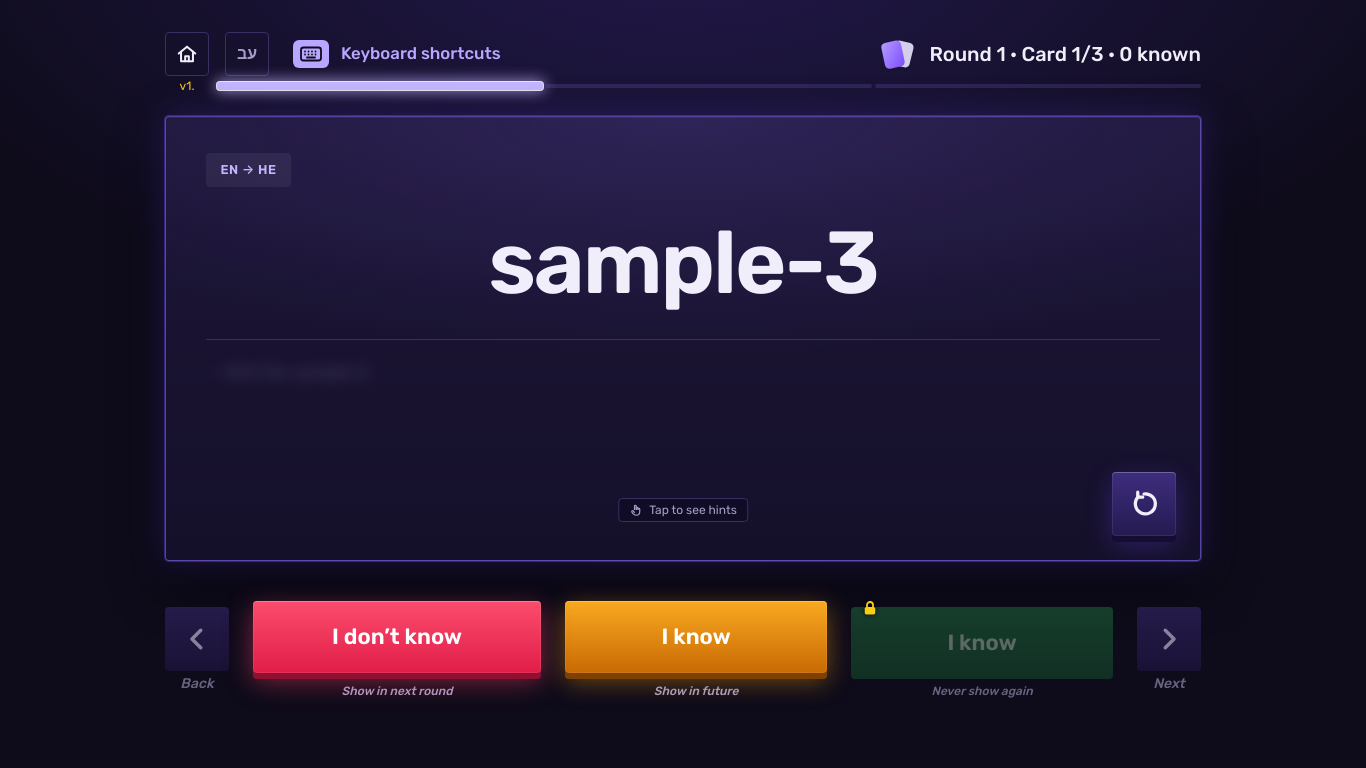
Test: PracticePage › Don’t know flips to the back, keeps the layout, turns red off and Next pumps
Click the button "I don’t know Show in next round": (397,652) [253,601,541,703]
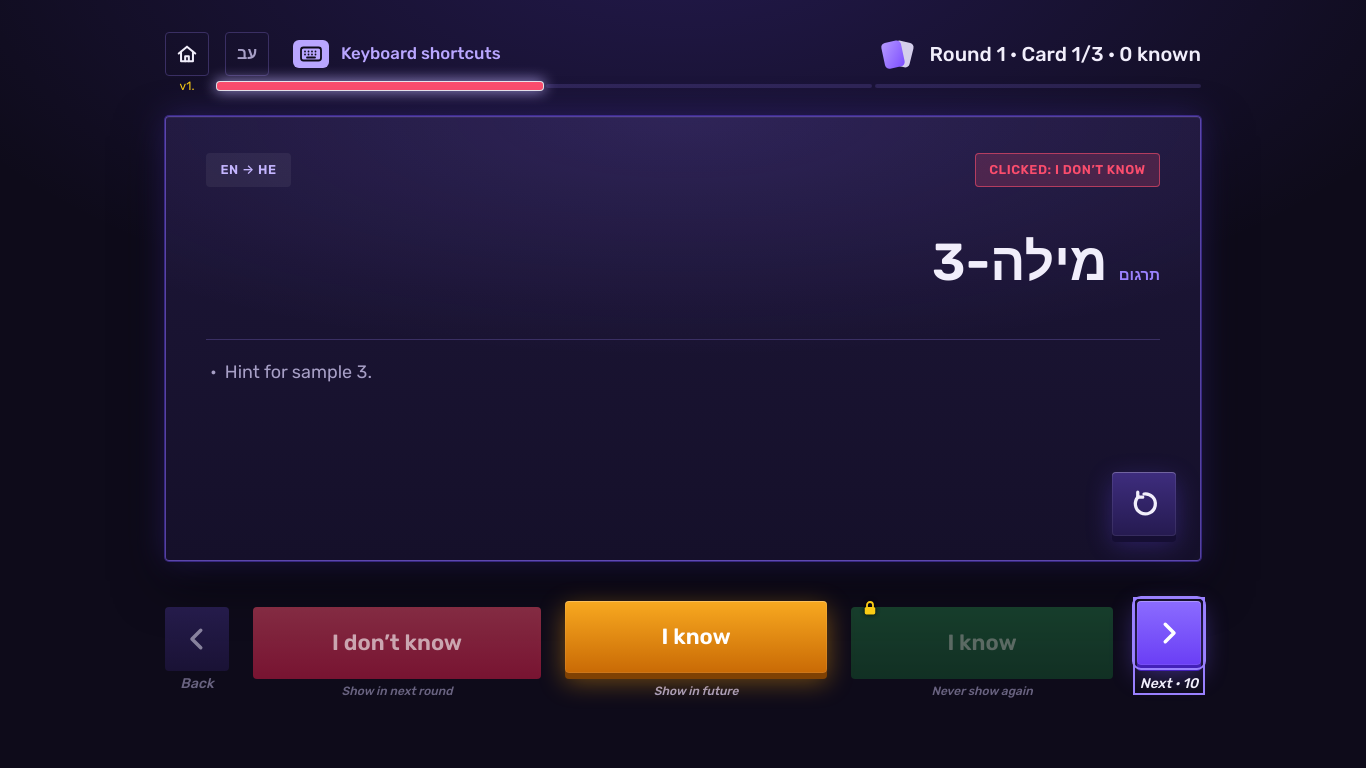
Check: the button "I don’t know Show in next round" is disabled, box [253,601,541,703]
Check: the button "Next · 10" is enabled, box [1137,601,1201,691]
Check: the text "Clicked: I don’t know" is shown 2 times, box [206,153,391,187]; [975,153,1160,187]
Click the button named "Flip": (1144,504) [1112,472,1176,536]
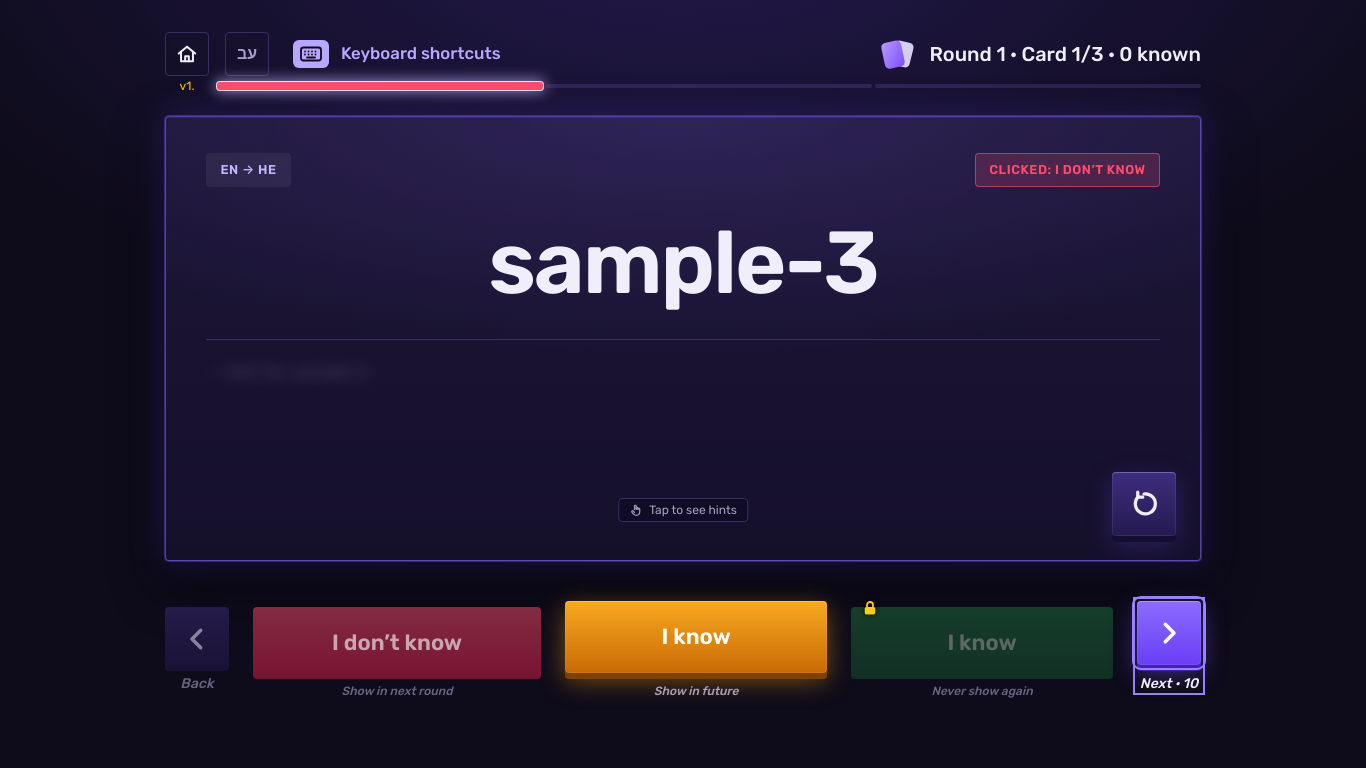
Check: the button "Tap to see hints" is enabled, box [202,352,1164,528]
Check: the icon with class "dk-trace" is shown, box [163,114,1203,563]
Click the button "Next · 10": (1169,646) [1137,601,1201,691]
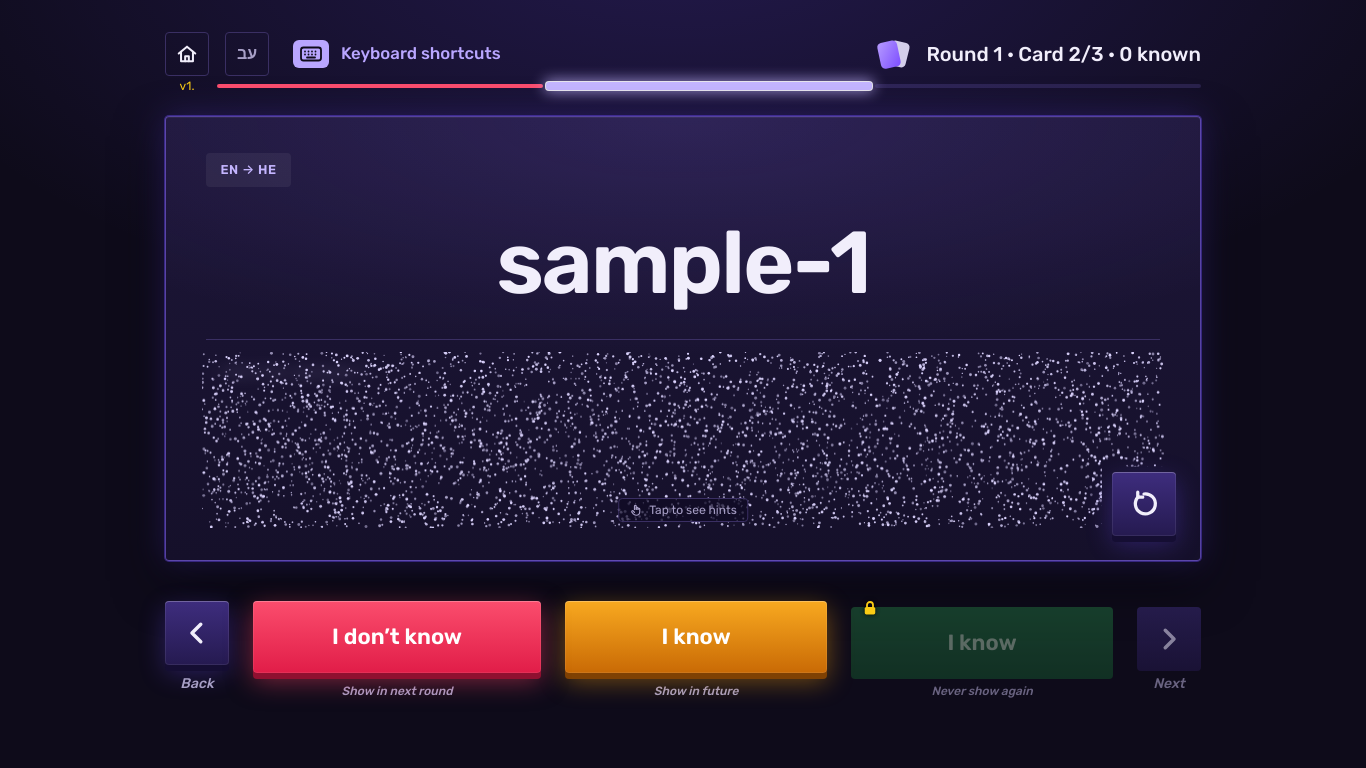
Check: the icon with class "dk-trace" is gone
